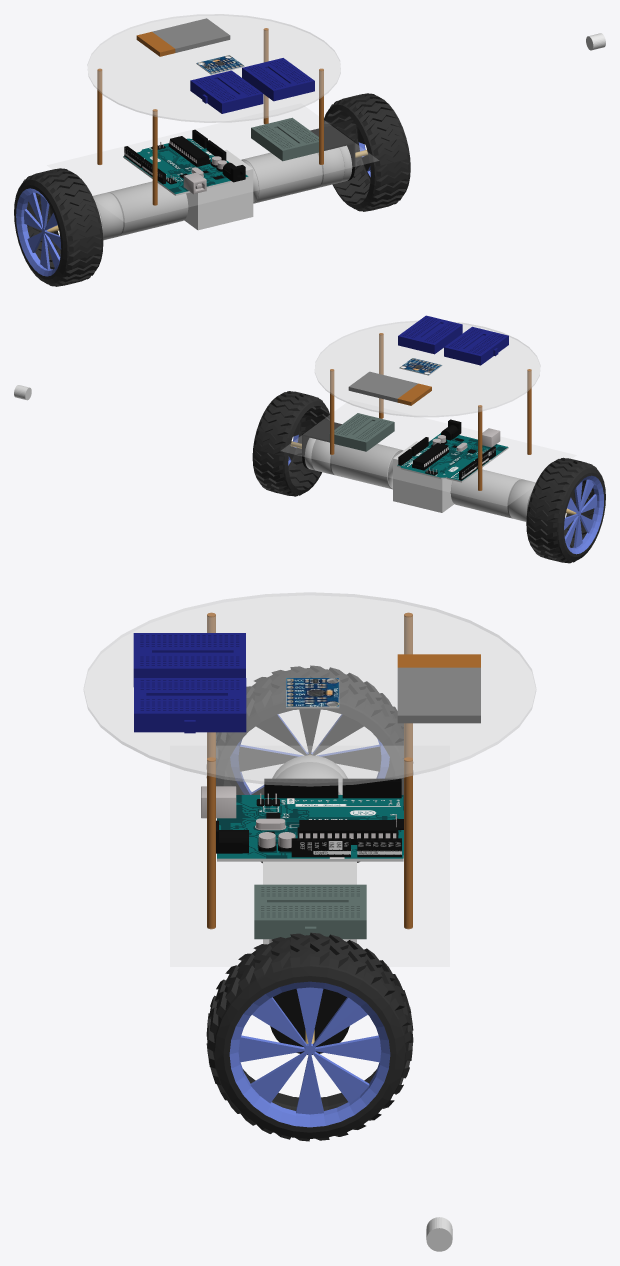
Rendered from BalancingRobot4.glb.
3 renders of one model, top to bottom at view 1: azimuth 30°, elevation 25°; view 2: azimuth 150°, elevation 25°; view 3: azimuth 270°, elevation 25°, orthographic. The views are drawn at different scales.
Visible parts, largest first — view 1: Body, Wheel, Body.001, Motor, Cube, BreadBoard, BreadBoard.001, Lipo Battery, BreadBoard.002, Cube.002, Motor Mount, Cube.010 (+6 smaller); view 2: Body, Wheel, Body.001, Motor, Cube, Cube.002, BreadBoard, BreadBoard.001, Lipo Battery, BreadBoard.002, Motor Mount, Cube.010 (+4 smaller); view 3: Body, Wheel, Body.001, BreadBoard.001, BreadBoard.002, Cube.002, Lipo Battery, BreadBoard, Cube, Motor Mount, Cube.010, MPU6050 (+8 smaller).
Part boxes in pixels (x1,y1,x2,y2): Body: [87, 14, 340, 122]; Wheel: [14, 93, 410, 286]; Body.001: [47, 106, 378, 222]; Motor: [47, 145, 368, 240]; Cube: [184, 149, 253, 230]; BreadBoard: [190, 70, 263, 113]; BreadBoard.001: [242, 58, 314, 101]; Lipo Battery: [136, 18, 230, 56]; BreadBoard.002: [251, 117, 318, 161]; Cube.002: [123, 138, 248, 195]; Motor Mount: [310, 125, 355, 180]; Cube.010: [168, 136, 210, 166]; Body: [315, 321, 540, 416]; Wheel: [252, 391, 605, 563]; Body.001: [281, 403, 576, 505]; Motor: [290, 438, 576, 521]; Cube: [393, 441, 454, 512]; Cube.002: [397, 433, 508, 482]; BreadBoard: [444, 326, 508, 365]; BreadBoard.001: [398, 315, 462, 354]; Lipo Battery: [348, 371, 431, 405]; BreadBoard.002: [329, 413, 394, 451]; Motor Mount: [302, 419, 341, 468]; Cube.010: [412, 443, 449, 470]; Body: [84, 592, 535, 786]; Wheel: [206, 665, 413, 1141]; Body.001: [170, 765, 449, 966]; BreadBoard.001: [134, 678, 246, 733]; BreadBoard.002: [254, 884, 366, 939]; Cube.002: [217, 795, 403, 861]; Lipo Battery: [397, 654, 480, 723]; BreadBoard: [133, 633, 245, 686]; Cube: [263, 861, 356, 944]; Motor Mount: [270, 988, 349, 1054]; Cube.010: [297, 820, 398, 844]; MPU6050: [286, 678, 339, 708].
Size of the model in its own units: 12.47 by 3.67 by 4.57.
29 materials, 7 textured.
